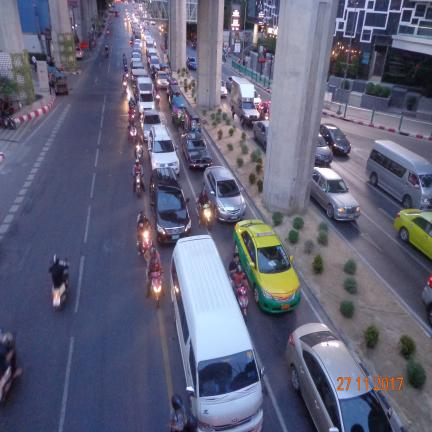car: (287, 323, 393, 432), (149, 167, 191, 243), (311, 167, 360, 220), (203, 166, 246, 221), (147, 125, 179, 175), (181, 132, 212, 169), (319, 123, 351, 154), (141, 109, 162, 141), (315, 133, 333, 164), (421, 276, 432, 325), (253, 120, 269, 150), (155, 71, 168, 88), (148, 55, 160, 70), (131, 53, 141, 67), (254, 90, 261, 109), (186, 56, 196, 69), (132, 46, 141, 60), (132, 55, 133, 58), (383, 378, 384, 379), (135, 56, 136, 57), (167, 90, 168, 91)
human: (146, 247, 163, 297), (170, 394, 187, 432), (49, 254, 68, 288), (137, 211, 150, 255), (232, 264, 248, 296), (197, 189, 210, 225), (228, 252, 240, 288), (132, 159, 143, 192), (183, 415, 198, 432), (128, 107, 136, 126), (128, 95, 136, 109), (31, 55, 37, 72), (124, 65, 129, 75), (227, 45, 231, 56), (162, 277, 164, 295), (243, 55, 245, 67), (237, 58, 240, 65), (144, 254, 145, 257)
motorbike: (0, 330, 21, 403), (52, 269, 68, 309), (196, 199, 212, 231), (138, 225, 153, 256), (150, 271, 162, 308), (235, 283, 248, 317), (52, 282, 66, 308), (167, 84, 182, 107), (0, 116, 16, 130), (135, 173, 142, 198), (135, 143, 143, 164), (129, 124, 137, 143), (155, 93, 160, 105), (59, 259, 68, 265), (123, 80, 127, 91), (203, 221, 204, 222)
taxi: (233, 219, 301, 312), (394, 209, 432, 259)
truck: (230, 77, 259, 125)
van: (171, 235, 264, 432), (366, 140, 432, 210)
